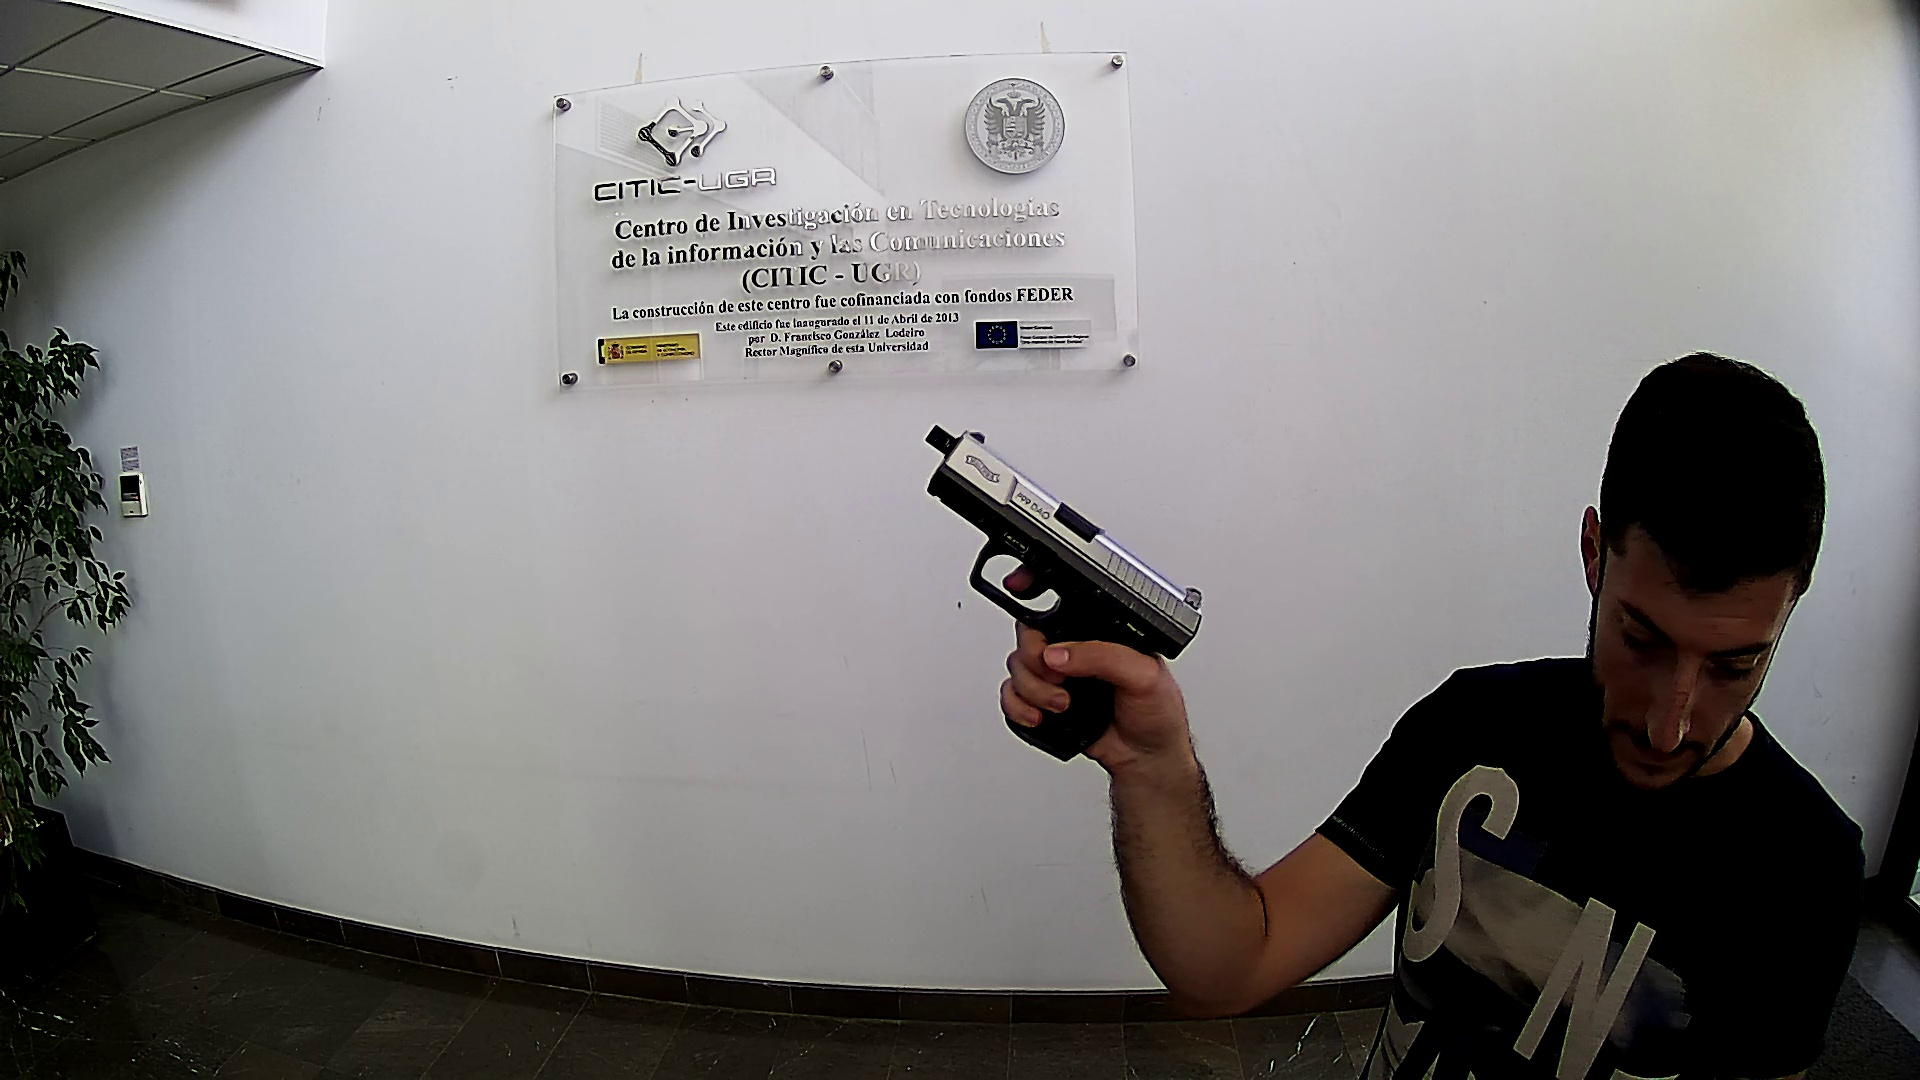pistol: (922, 422, 1205, 764)
